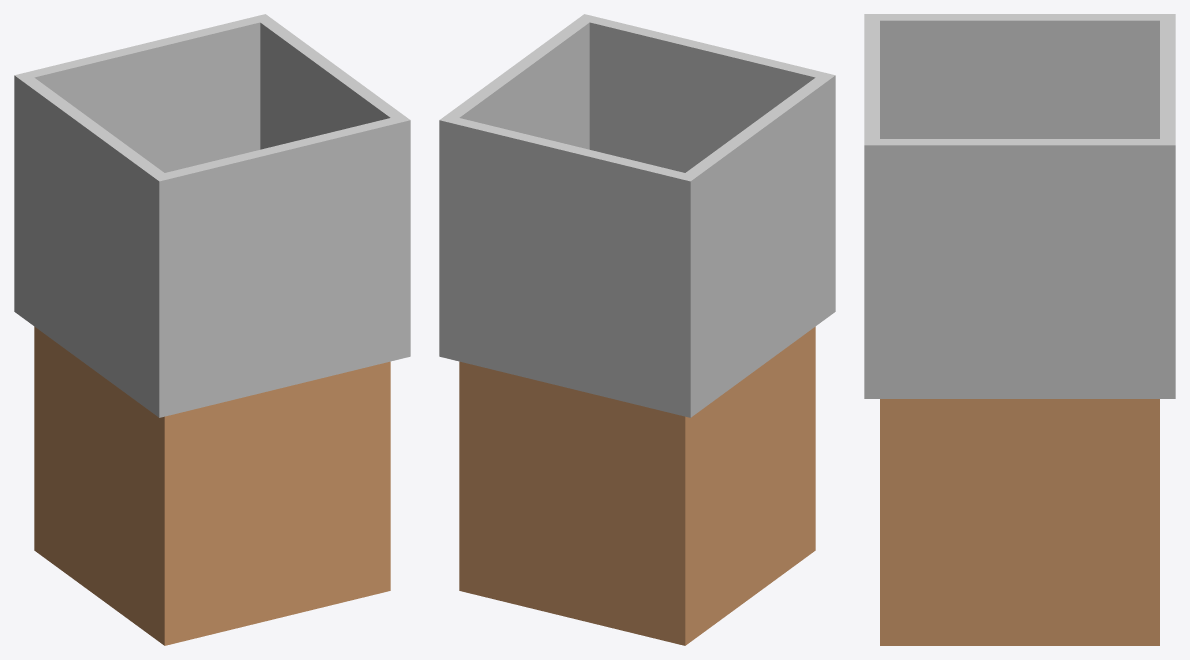
File: KareHaritaZeminli.fbx
3 views of the same model, side by side, from view 1: azimuth 30°, elevation 25°; view 2: azimuth 150°, elevation 25°; view 3: azimuth 270°, elevation 25° (orthographic). The views are drawn at different scales.
Visible parts, largest first — view 1: KareHarita, KareDuvar, KareDuvar.001, KareDuvar.002, KareDuvar.003; view 2: KareHarita, KareDuvar.002, KareDuvar.001, KareDuvar, KareDuvar.003; view 3: KareDuvar.003, KareHarita, KareDuvar.001, KareDuvar, KareDuvar.002.
Boxes of the visible parts, box(x1,y1,x2,y2) form: KareHarita: box(34, 326, 390, 645); KareDuvar: box(159, 118, 410, 417); KareDuvar.001: box(14, 75, 164, 417); KareDuvar.002: box(15, 14, 265, 172); KareDuvar.003: box(260, 14, 409, 149); KareHarita: box(459, 326, 815, 645); KareDuvar.002: box(439, 118, 690, 417); KareDuvar.001: box(685, 75, 835, 417); KareDuvar: box(584, 14, 834, 172); KareDuvar.003: box(440, 14, 589, 149); KareDuvar.003: box(864, 139, 1175, 398); KareHarita: box(880, 399, 1159, 645); KareDuvar.001: box(865, 14, 1174, 138); KareDuvar: box(864, 14, 879, 145); KareDuvar.002: box(1160, 14, 1175, 145).
Bounding box in the file's own units: 111 × 200 × 111.
